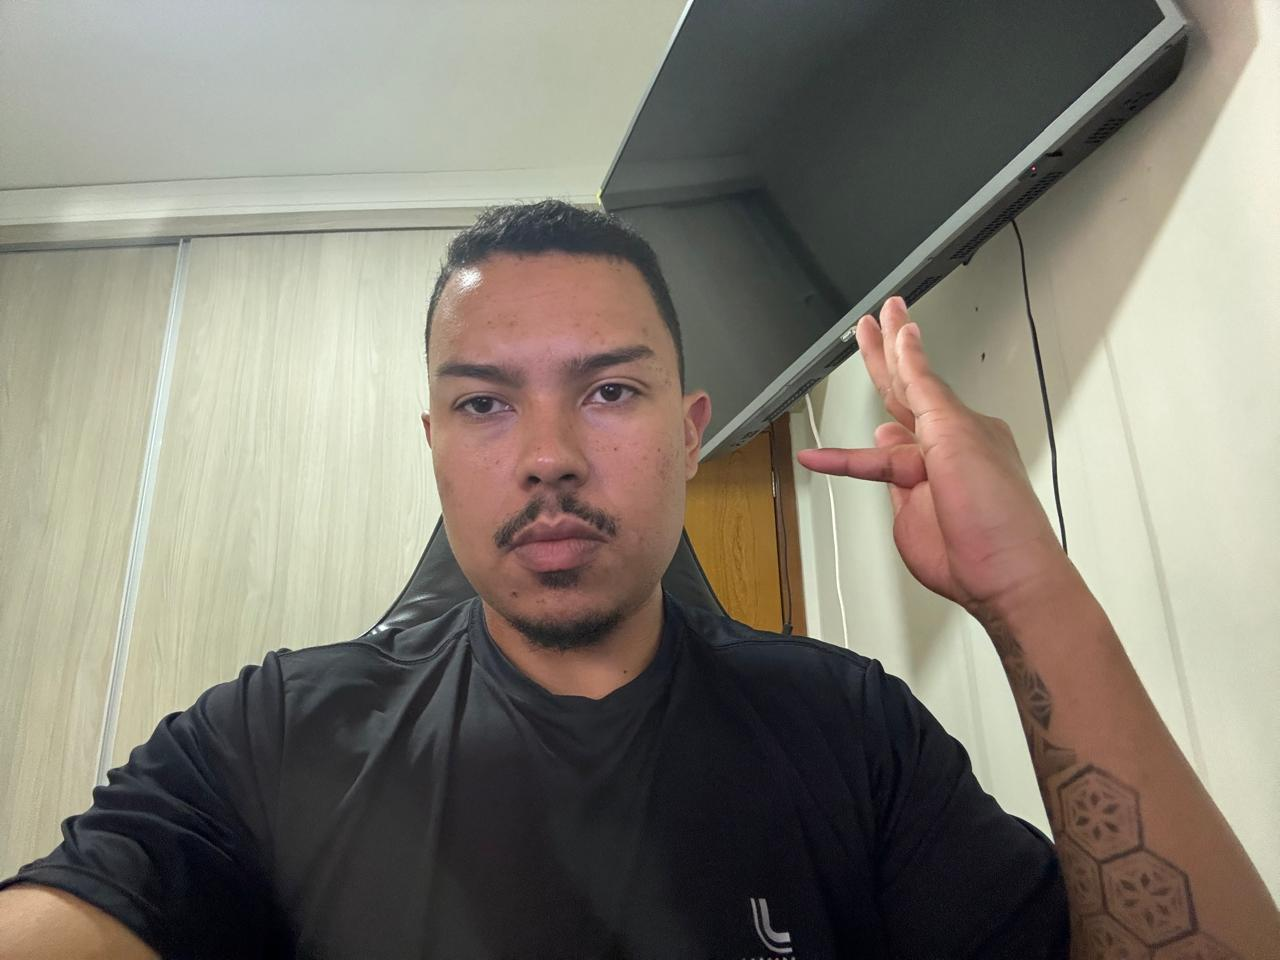f: (792, 281, 1071, 611)
